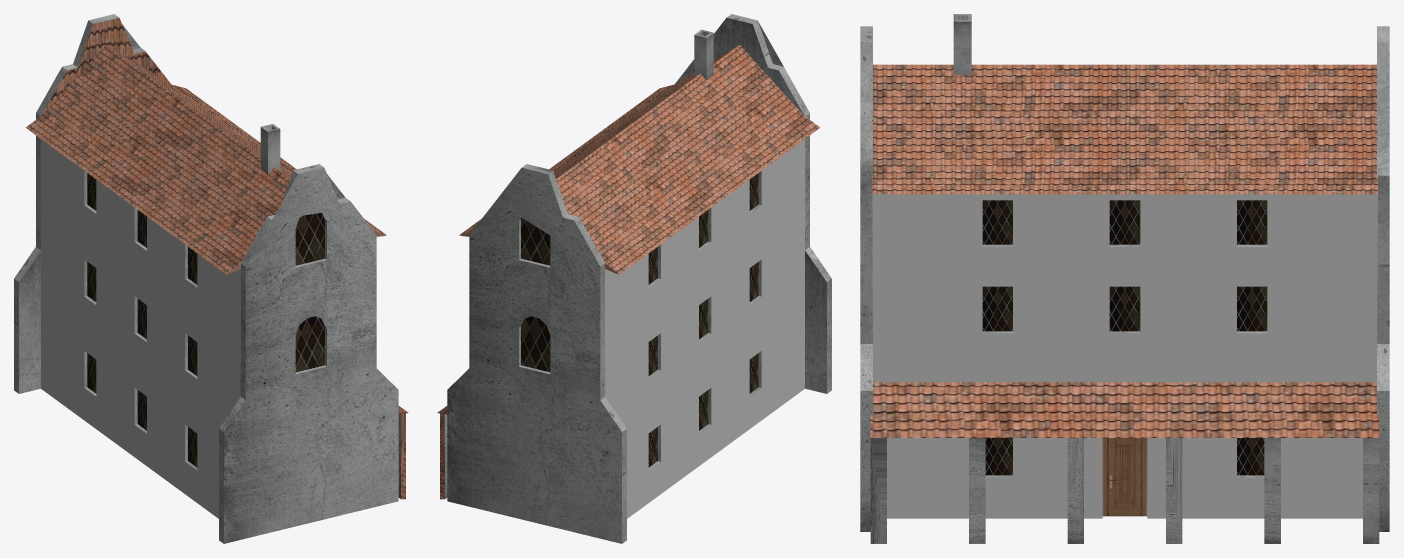
Rendered from BuildingB.fbx.
3 renders of one model, left to right at view 1: azimuth 30°, elevation 25°; view 2: azimuth 150°, elevation 25°; view 3: azimuth 270°, elevation 25°, orthographic. The views are drawn at different scales.
Visible parts, largest first — view 1: BuildingB; view 2: BuildingB; view 3: BuildingB.
Boxes of the visible parts, x1,y1,x2,y2 form: BuildingB: (14,14,408,543); BuildingB: (437,14,831,543); BuildingB: (860,14,1389,543).
Size of the model in its own units: 867 by 1615 by 1666.
